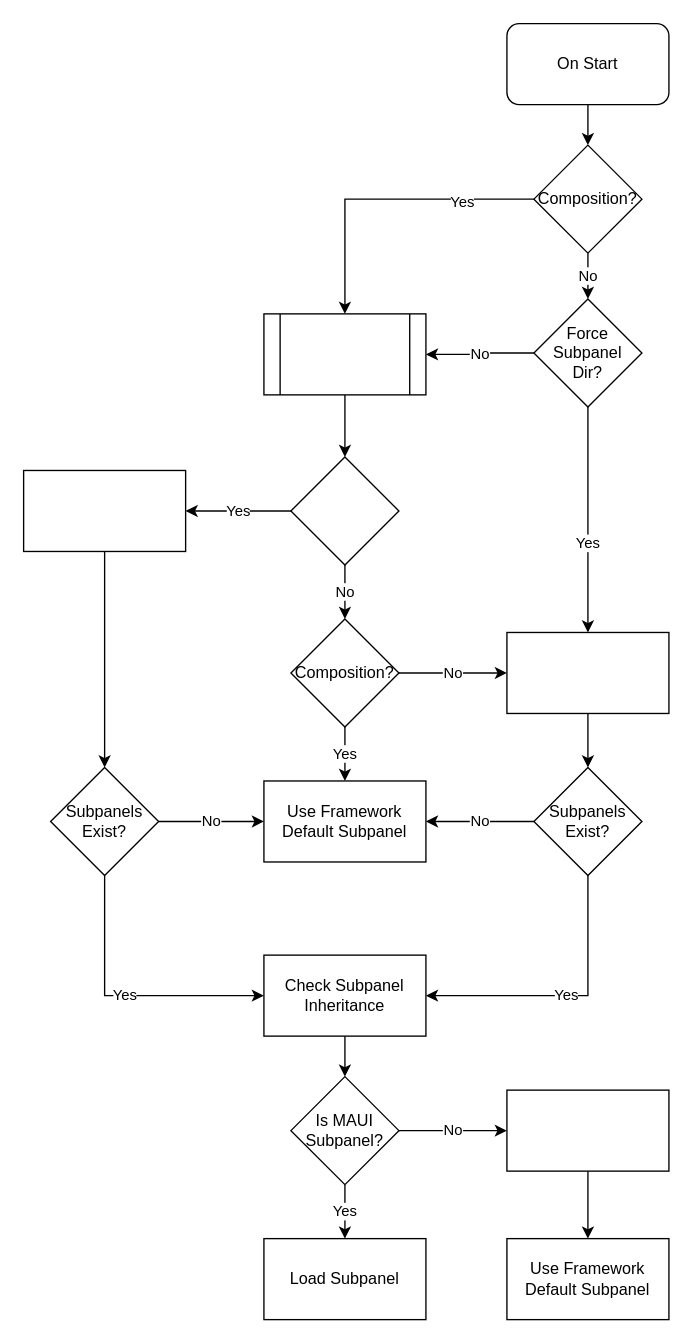
The diagram is 693 pixels wide and 1343 high, and some of its shapes have lost their labels. Each missing label, with the centre of its shape:
"Config File Exists?" goes at point 344,510.
"Don't load subpanel" goes at point 587,1130.
"Load From Paths in Config File" goes at point 104,510.
"Locate Config File" goes at point 344,354.
"Search for Subpanels in expected location" goes at point 587,672.
